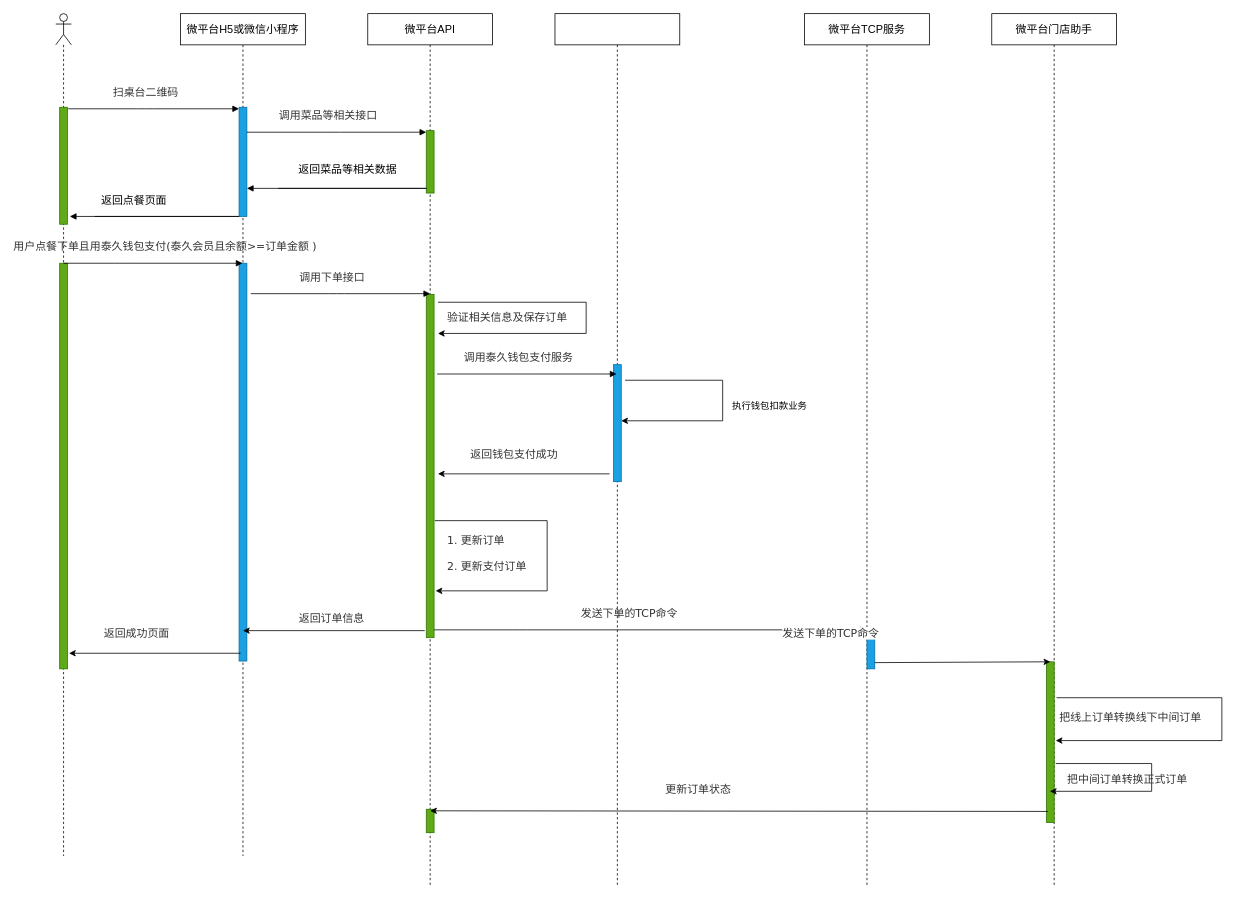
Image size: 1242x901. Some labels were removed from this diagram. The box of each missing label's shape, as (x1, y1, x2, y2) in pixels:
泰久钱包支付API: (554, 13, 680, 887)
用户: (55, 13, 71, 856)
